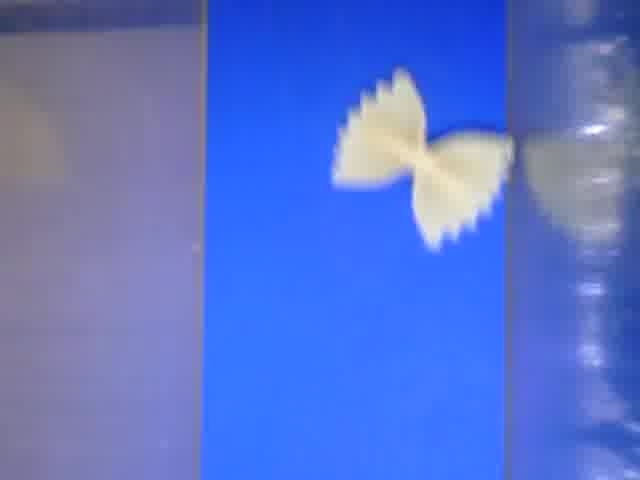farfalle: (328, 66, 514, 250)
